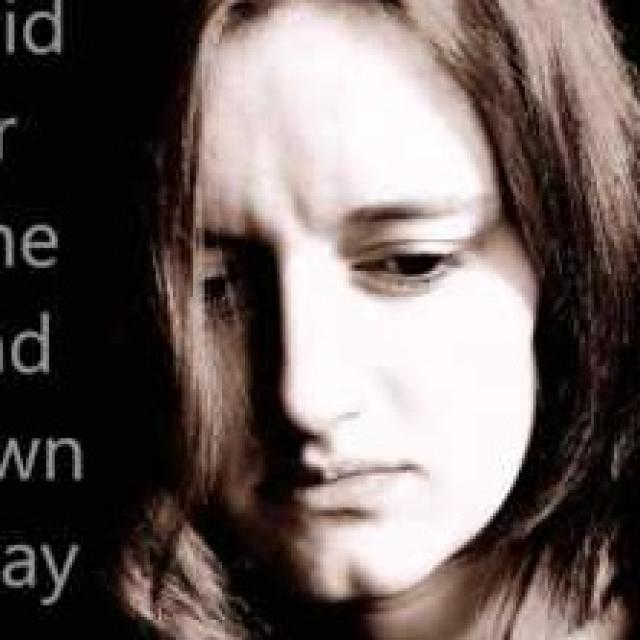Depress: (163, 8, 551, 597)
